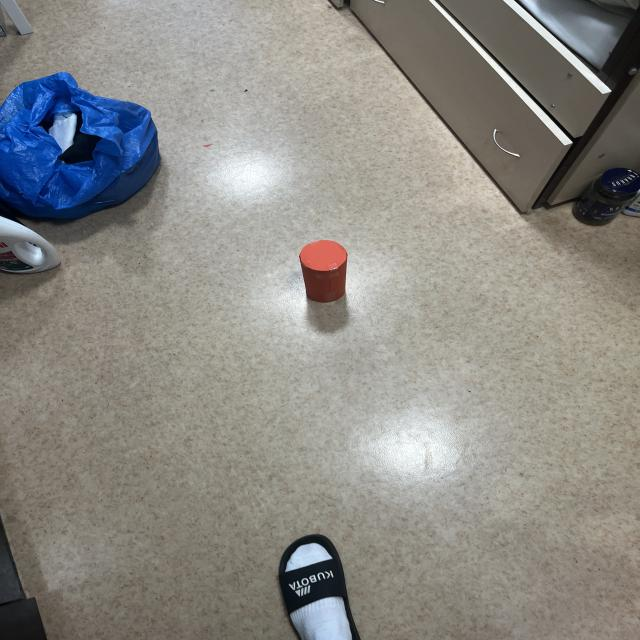przeszkoda: (299, 240, 347, 302)
